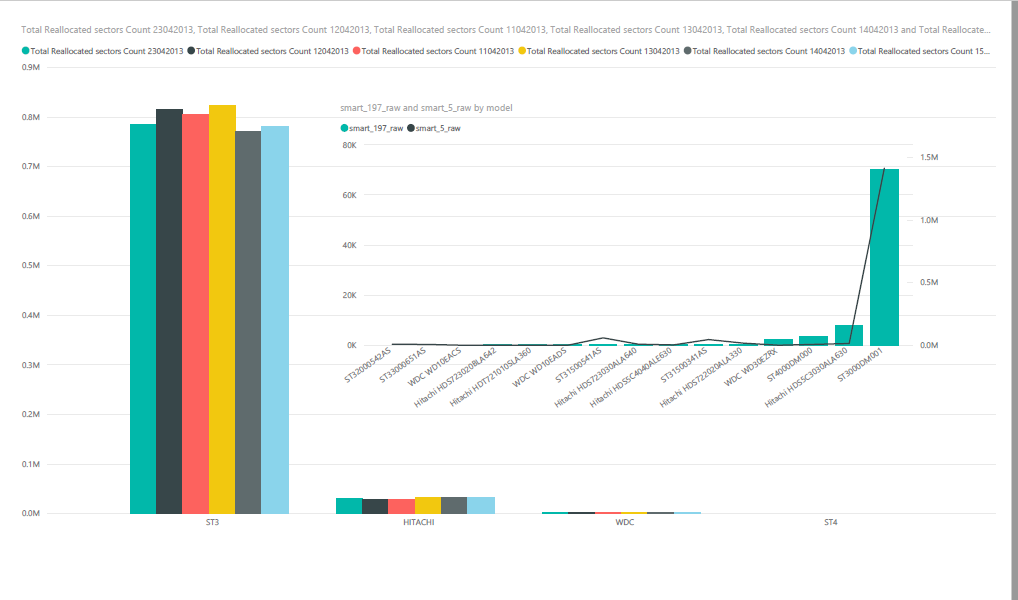

Layout of this report page (visuals, bound fields, positions):
{"tool":"powerbi","page":{"name":"Page 1","canvas":[1280,720],"ordinal":0},"visuals":[{"type":"clusteredColumnChart","fields":{"Category":["Total 20132304.Model","Total 20130411.Model","Total 20130412.Model","Total 20130411.Model","Total 20130413.Model","Total 20130414.Model","Total 20130415.Model"],"Y":["Sum(Total 20132304.Total Reallocated sectors Count 23042013)","Sum(Total 20130412.Total Reallocated sectors Count 12042013)","Sum(Total 20130411.Total Reallocated sectors Count 11042013)","Sum(Total 20130413.Total Reallocated sectors Count 13042013)","Sum(Total 20130414.Total Reallocated sectors Count 14042013)","Sum(Total 20130415.Total Reallocated sectors Count 15042013)"]},"box":[10,0,1270,662.5],"z":1},{"type":"textbox","box":[771,126.8,300.4,300.4],"z":3},{"type":"textbox","box":[100,100,300,300],"z":4},{"type":"lineStackedColumnComboChart","fields":{"Category":["Copy of 2013-12-01.model"],"Y":["Sum(Copy of 2013-12-01.smart_197_raw)"],"Y2":["Sum(Copy of 2013-12-01.smart_5_raw)"]},"box":[422.2,100.1,784.4,413.9],"z":4}]}

Visuals, with their boxes on the page's 1280x720 design canvas (x1, y1, x2, y2). These are canvas units, not pixel positions in the 1018x600 screenshot, which may show the page scaled, cropped or inside an application window:
clusteredColumnChart - Total 20132304.Model x Total 20130411.Model: crop(10, 0, 1280, 662)
textbox: crop(771, 127, 1071, 427)
textbox: crop(100, 100, 400, 400)
lineStackedColumnComboChart - Copy of 2013-12-01.model x Sum(Copy of 2013-12-01.smart_197_raw): crop(422, 100, 1207, 514)
